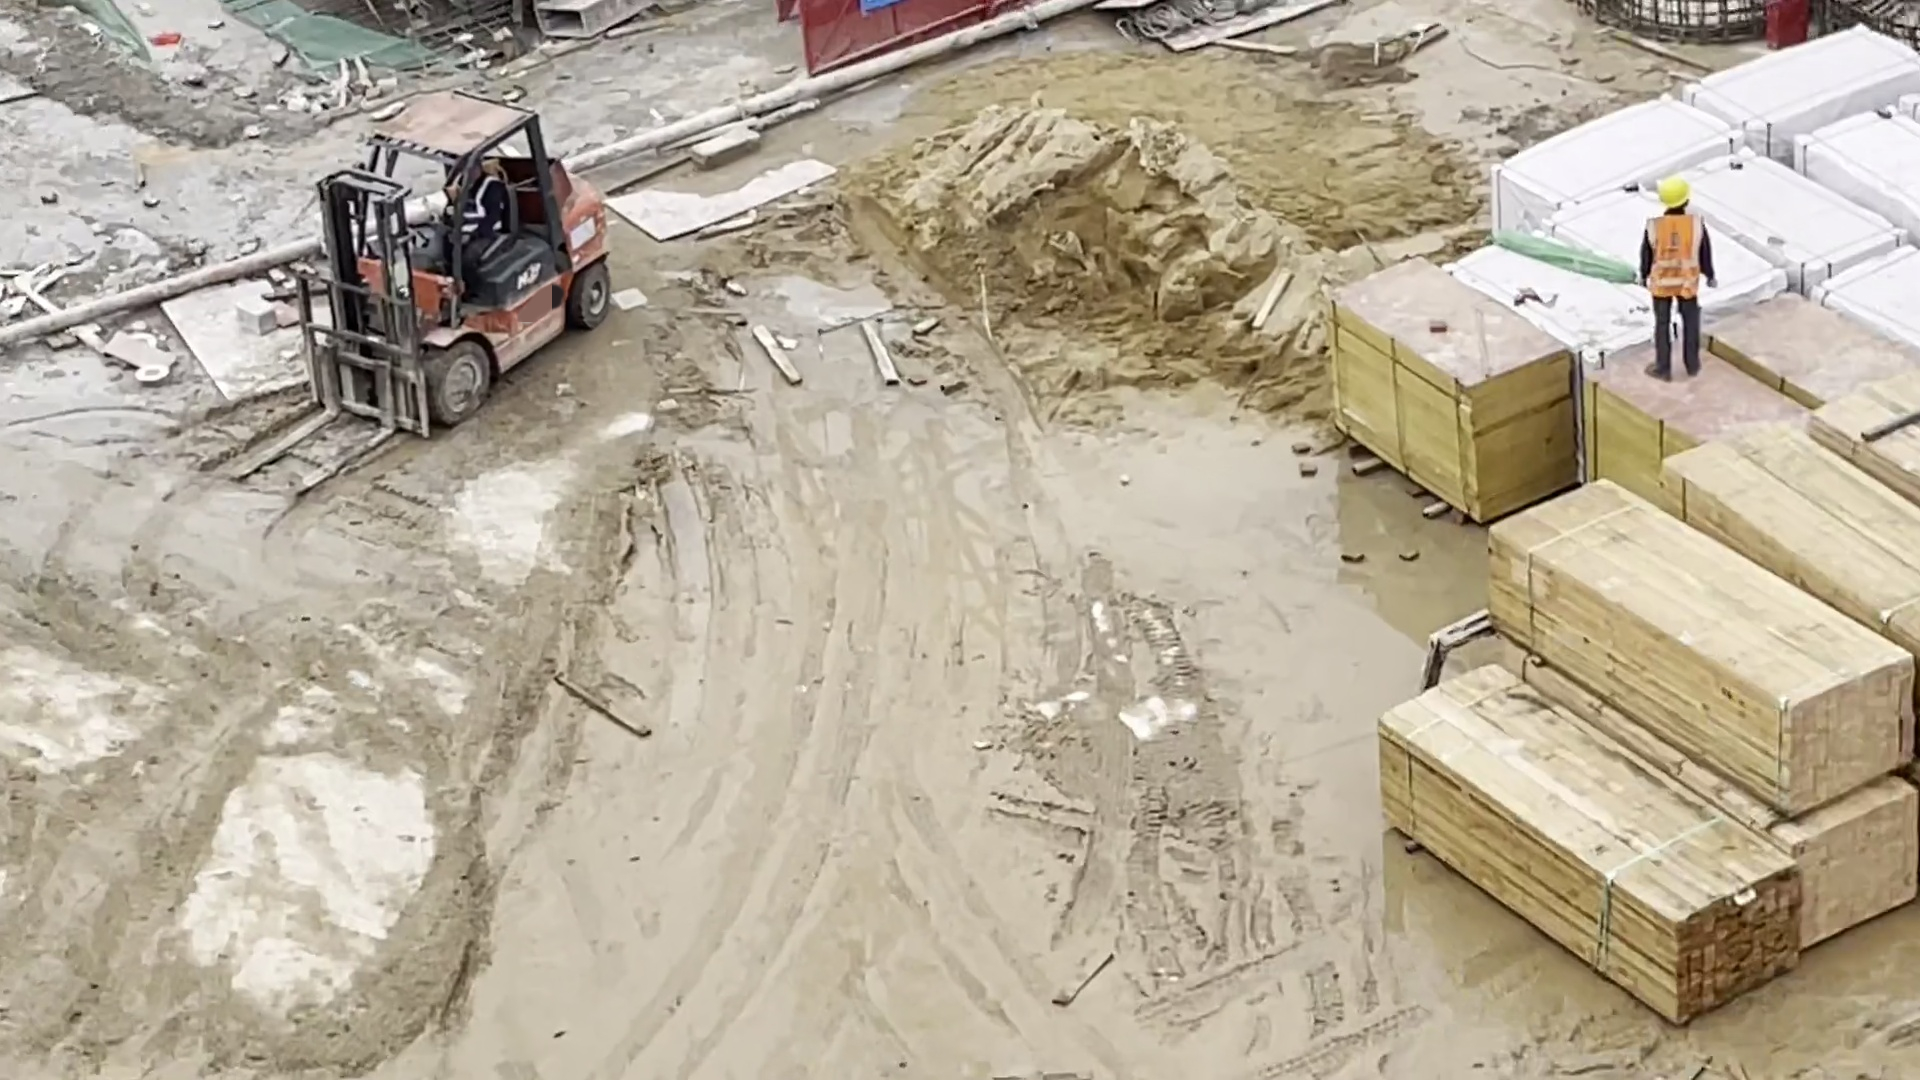board: (1327, 258, 1584, 522), (1591, 322, 1788, 506)
helmet: (1656, 177, 1691, 207)
person: (1639, 177, 1720, 384)
vest: (1643, 215, 1704, 297)
wood: (1376, 661, 1796, 1022), (1491, 476, 1920, 816), (1671, 357, 1920, 640)
